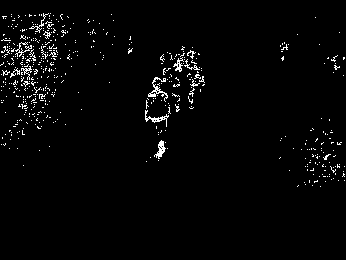person: (144, 76, 169, 159)
